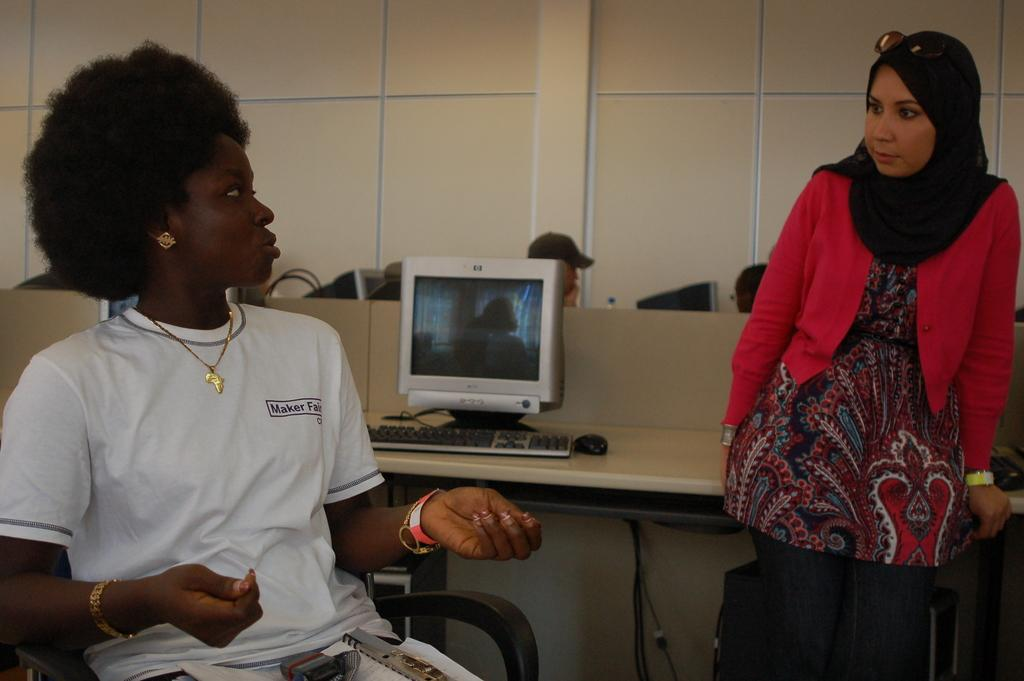Computer-monitor: (386, 253, 576, 438), (296, 258, 399, 306), (630, 274, 725, 311)
